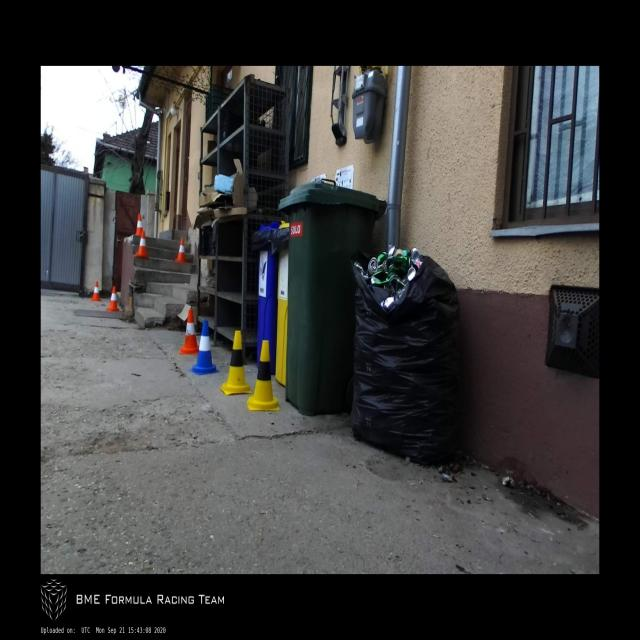blue_cone: (189, 320, 219, 374)
orange_cone: (180, 310, 198, 354), (136, 231, 149, 258), (108, 286, 120, 312), (175, 238, 186, 263), (92, 282, 102, 302), (134, 214, 143, 236)
yellow_cone: (247, 340, 280, 410), (220, 331, 252, 395)
